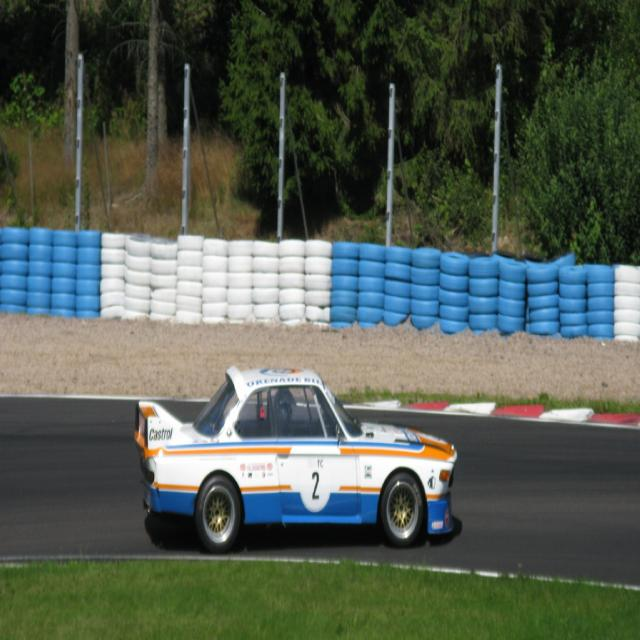car: (132, 364, 463, 551)
